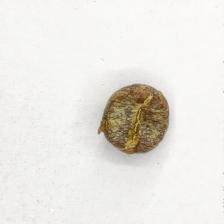NG: (104, 85, 167, 152)
